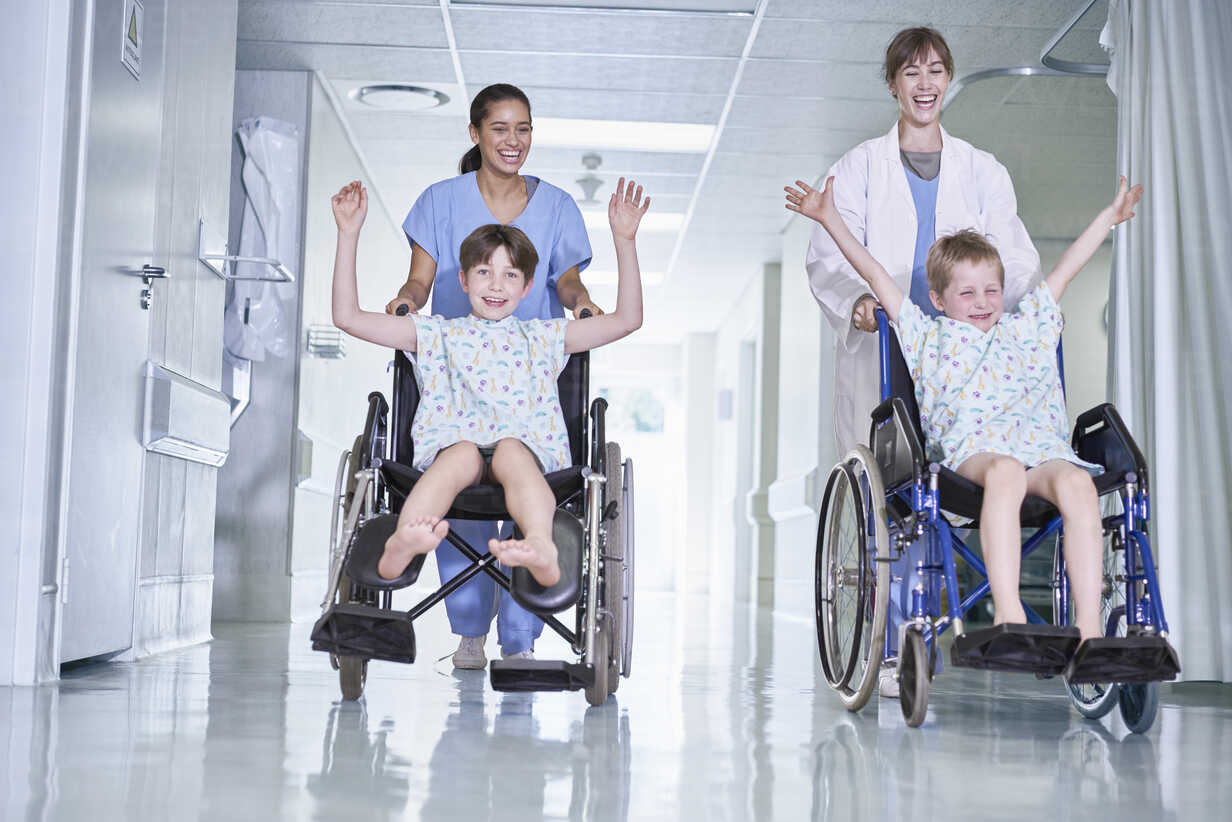wheelchair: (779, 172, 1185, 737), (311, 179, 655, 707)
